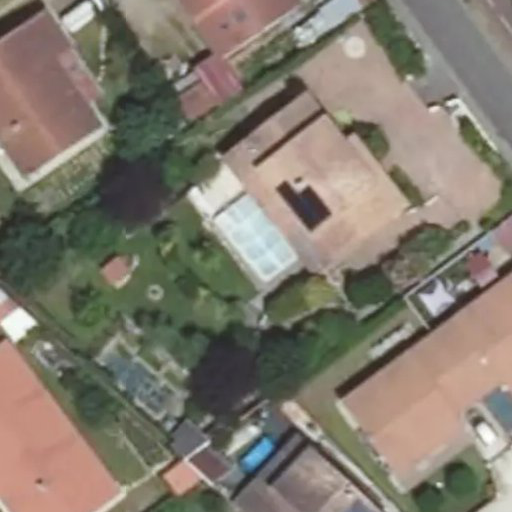pool: (219, 226, 292, 258)
